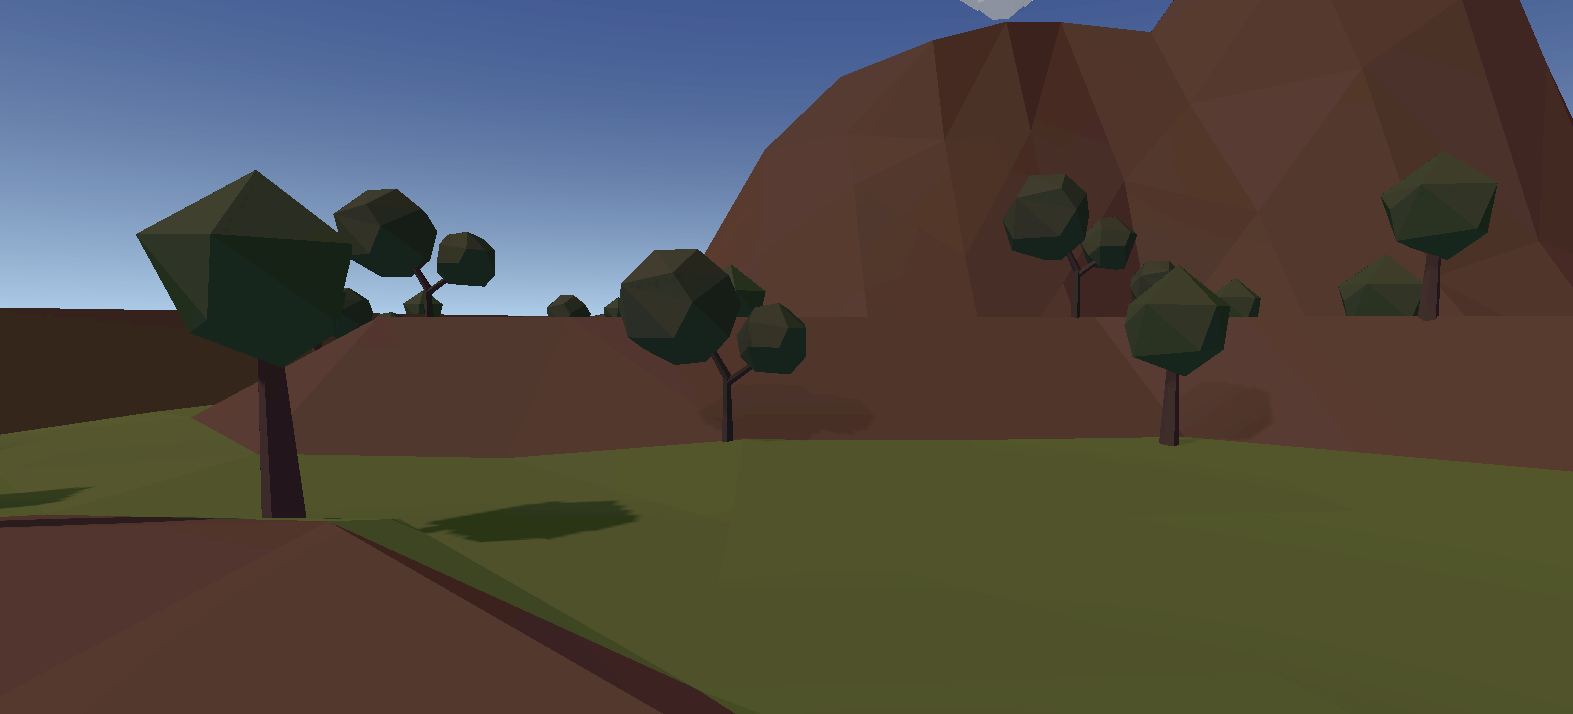tree: (133, 171, 352, 535), (619, 249, 808, 443), (1383, 152, 1499, 317), (1003, 175, 1136, 314), (1125, 268, 1230, 440), (1128, 255, 1263, 322), (1339, 255, 1425, 317)
